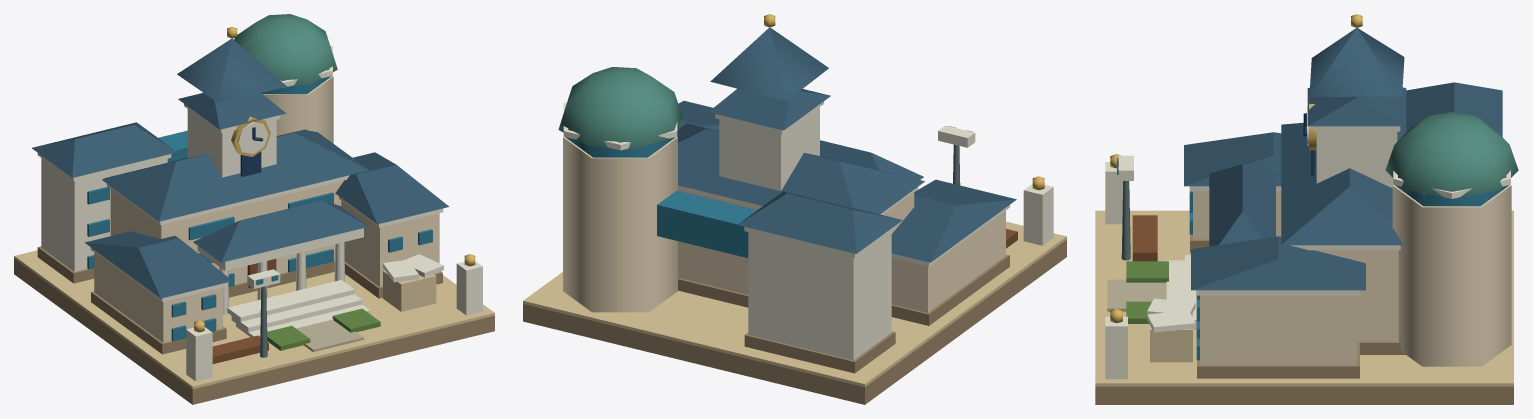
Rendered from university-lv4.glb.
3 views of the same model, side by side, from view 1: azimuth 30°, elevation 25°; view 2: azimuth 150°, elevation 25°; view 3: azimuth 270°, elevation 25° (orthographic). The views are drawn at different scales.
Visible parts, largest first — view 1: foundation_sand, lecture_hall_roof_roof, foundation_stoneDark, research_hall_white, portico_pediment_roof, library_wing_roof_roof, observatory_dome_copper, lecture_hall_cream, library_wing_cream, science_wing_roof_roof, research_hall_roof_roof, entrance_steps_white (+29 smaller); view 2: observatory_cream, research_hall_white, foundation_sand, foundation_stoneDark, lecture_hall_roof_roof, observatory_dome_copper, library_wing_roof_roof, clock_tower_white, research_hall_roof_roof, library_wing_cream, tower_cap_roof, research_bridge_glass (+12 smaller); view 3: observatory_cream, foundation_sand, science_wing_cream, lecture_hall_roof_roof, observatory_dome_copper, foundation_stoneDark, science_wing_roof_roof, tower_cap_roof, portico_pediment_roof, clock_tower_white, lecture_hall_cream, library_wing_roof_roof (+18 smaller).
Boxes of the visible parts, x1,y1,x2,y2 form: foundation_sand: (14, 250, 494, 389); lecture_hall_roof_roof: (102, 129, 369, 221); foundation_stoneDark: (14, 259, 494, 404); research_hall_white: (37, 153, 171, 271); portico_pediment_roof: (193, 200, 368, 262); library_wing_roof_roof: (84, 231, 232, 298); observatory_dome_copper: (234, 14, 337, 85); lecture_hall_cream: (110, 180, 343, 284); library_wing_cream: (94, 252, 222, 342); science_wing_roof_roof: (335, 152, 449, 224); research_hall_roof_roof: (32, 122, 177, 177); entrance_steps_white: (227, 280, 370, 337); observatory_cream: (563, 137, 677, 312); research_hall_white: (744, 225, 895, 360); foundation_sand: (523, 221, 1066, 387); foundation_stoneDark: (523, 239, 1066, 404); lecture_hall_roof_roof: (677, 123, 924, 214); observatory_dome_copper: (558, 67, 682, 148); library_wing_roof_roof: (891, 179, 1016, 262); clock_tower_white: (715, 101, 823, 190); research_hall_roof_roof: (737, 191, 902, 253); library_wing_cream: (891, 210, 1005, 312); tower_cap_roof: (710, 27, 828, 101); research_bridge_glass: (657, 190, 756, 257); observatory_cream: (1392, 185, 1511, 366); foundation_sand: (1095, 210, 1513, 386); science_wing_cream: (1200, 295, 1356, 365); lecture_hall_roof_roof: (1281, 122, 1406, 245); observatory_dome_copper: (1385, 112, 1518, 196); foundation_stoneDark: (1095, 386, 1513, 404); science_wing_roof_roof: (1191, 236, 1365, 290); tower_cap_roof: (1309, 28, 1404, 97); portico_pediment_roof: (1209, 164, 1275, 246); clock_tower_white: (1313, 126, 1400, 188); lecture_hall_cream: (1315, 250, 1398, 341); library_wing_roof_roof: (1184, 132, 1281, 186).
Bounding box in the file's own units: 0.9663 × 0.7938 × 1.
